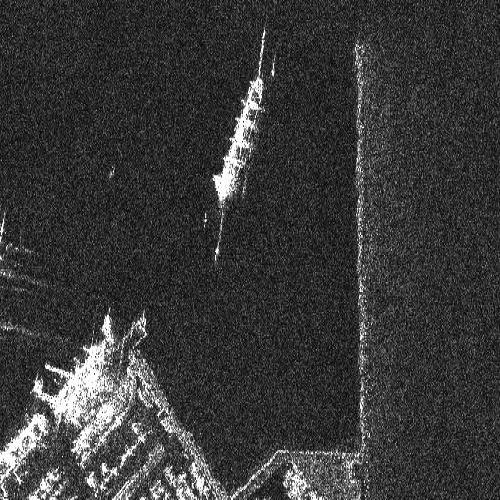ship: (211, 74, 264, 203)
